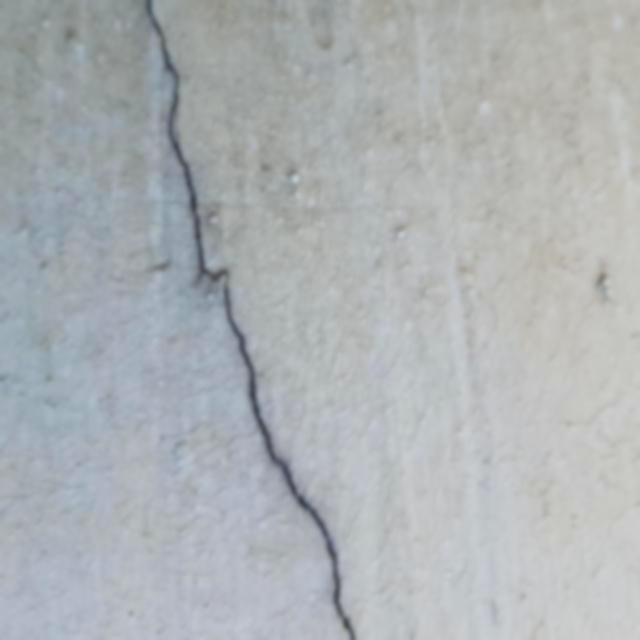SurfaceCrack: (122, 1, 385, 640)
